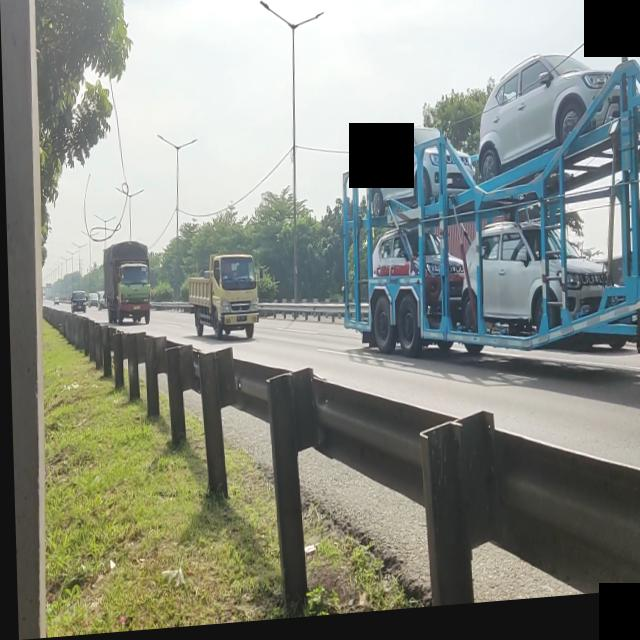Golongan II: (180, 251, 264, 350)
